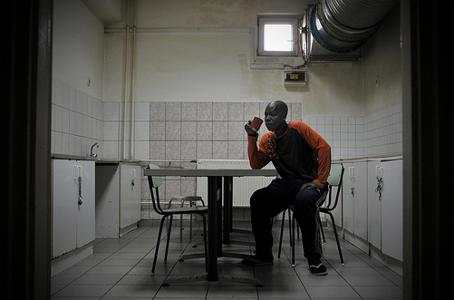person: (247, 101, 333, 276)
